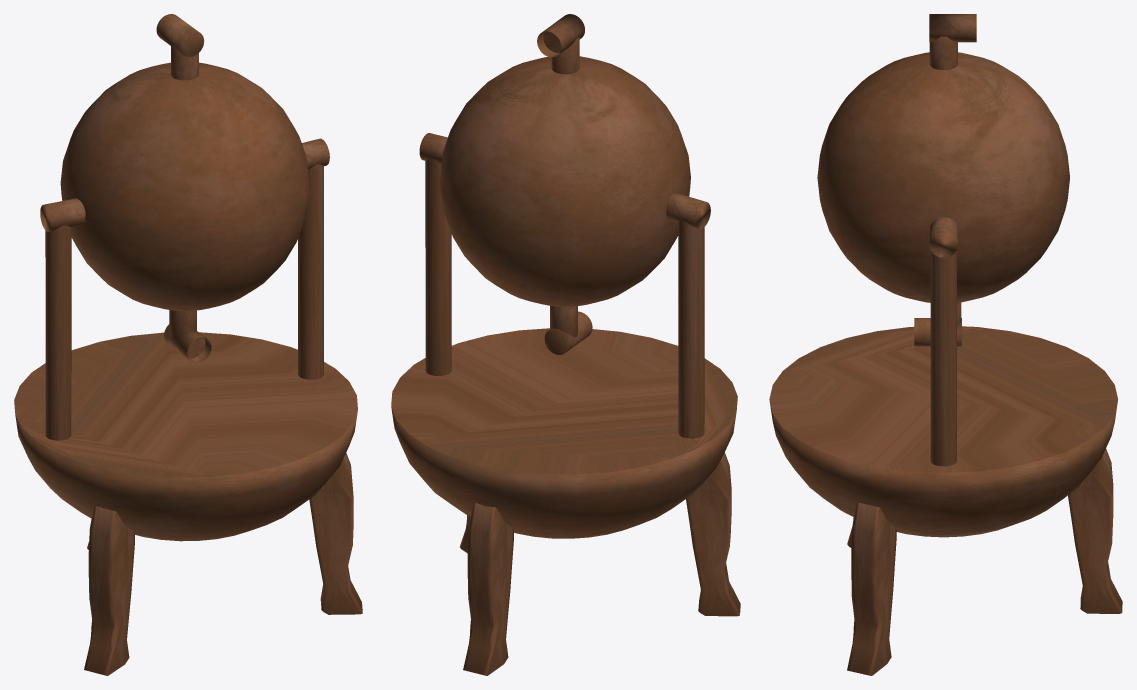
The model's file is aha.glb.
3 views of the same model, side by side, from view 1: azimuth 30°, elevation 25°; view 2: azimuth 150°, elevation 25°; view 3: azimuth 270°, elevation 25° (orthographic).
Parts seen in each view (by area): view 1: Sphere.001, Cylinder.004, Cube.001, Cylinder.002, Cube.002, Cylinder, Cylinder.003, Cylinder.001; view 2: Sphere.001, Cylinder.004, Cube.003, Cylinder.002, Cube.001, Cylinder, Cylinder.003, Cylinder.001; view 3: Sphere.001, Cylinder.004, Cube.002, Cylinder, Cube.003, Cylinder.001.
Boxes of the visible parts, x1=… form: Sphere.001: x1=14, y1=332, x2=357, y2=541; Cylinder.004: x1=60, y1=14, x2=309, y2=362; Cube.001: x1=84, y1=506, x2=134, y2=675; Cylinder.002: x1=45, y1=225, x2=71, y2=440; Cube.002: x1=309, y1=453, x2=362, y2=614; Cylinder: x1=298, y1=164, x2=323, y2=379; Cylinder.003: x1=40, y1=198, x2=85, y2=231; Cylinder.001: x1=302, y1=138, x2=329, y2=169; Sphere.001: x1=391, y1=328, x2=737, y2=538; Cylinder.004: x1=440, y1=14, x2=690, y2=354; Cube.003: x1=463, y1=502, x2=513, y2=675; Cylinder.002: x1=678, y1=221, x2=704, y2=438; Cube.001: x1=686, y1=453, x2=740, y2=616; Cylinder: x1=425, y1=159, x2=451, y2=375; Cylinder.003: x1=666, y1=193, x2=710, y2=228; Cylinder.001: x1=419, y1=133, x2=447, y2=163; Sphere.001: x1=769, y1=326, x2=1117, y2=537; Cylinder.004: x1=817, y1=14, x2=1069, y2=346; Cube.002: x1=847, y1=502, x2=896, y2=675; Cylinder: x1=930, y1=250, x2=956, y2=466; Cube.003: x1=1068, y1=449, x2=1122, y2=613; Cylinder.001: x1=929, y1=217, x2=957, y2=257.
Bounding box in the file's own units: 2.2 × 4.12 × 2.23.
Materials: 1 (1 with a texture image).
